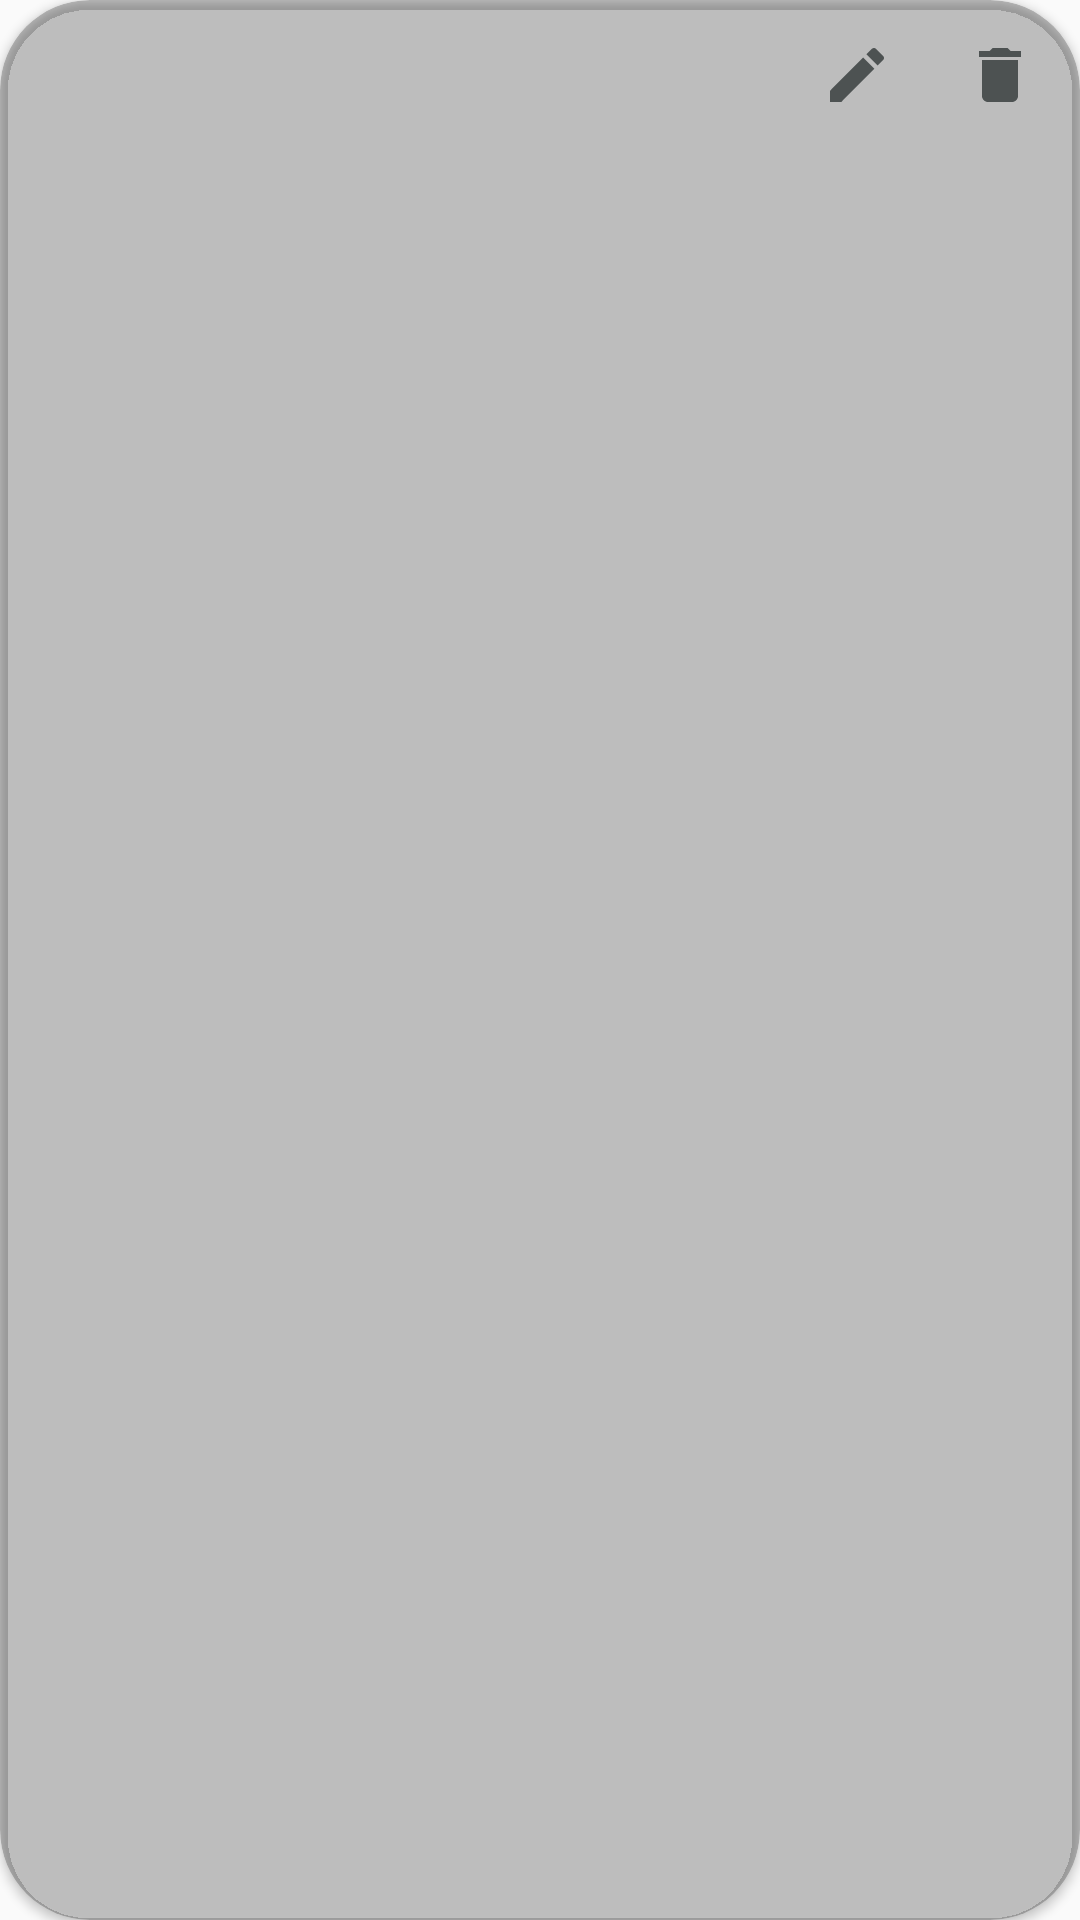

Locate icon controls on the screen. Image size 1080x1920, boxes as (x1, y1, x2, y2).
edit: (830, 48, 884, 102)
